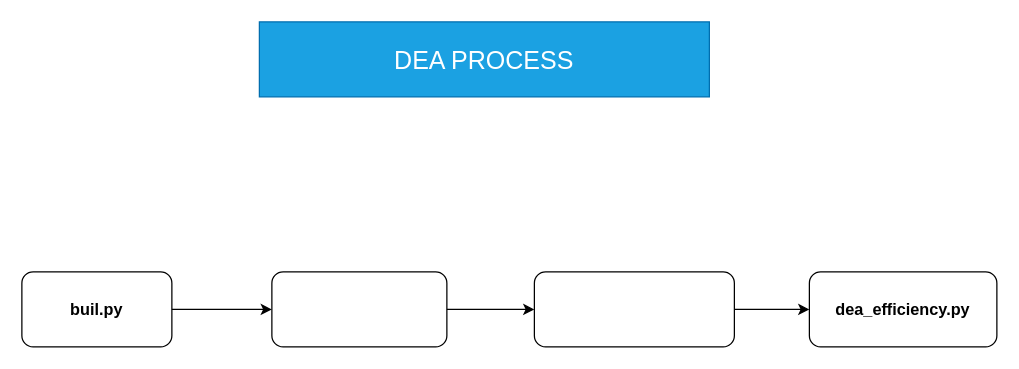
This 1019x369 diagram has some shape labels left out. The centre of each missing label's shape, as x and y in pixels:
build_experiments.py: [633,309]
experiments.py: [359,309]
